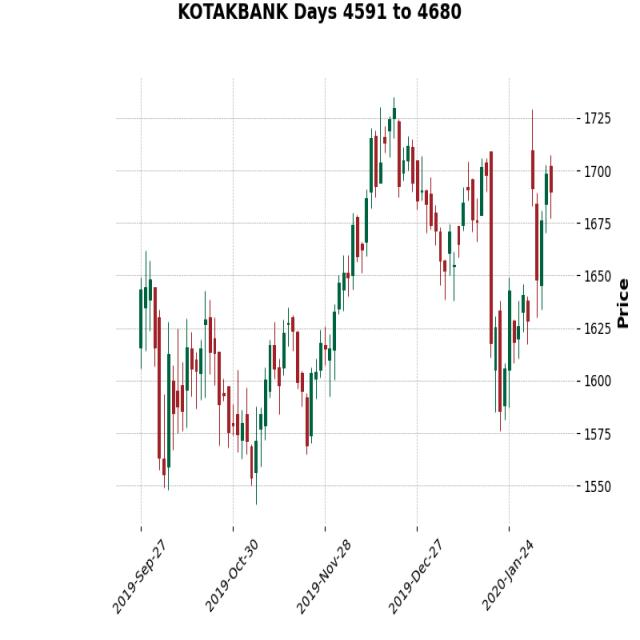Descending Triangle: (131, 245, 284, 502)
